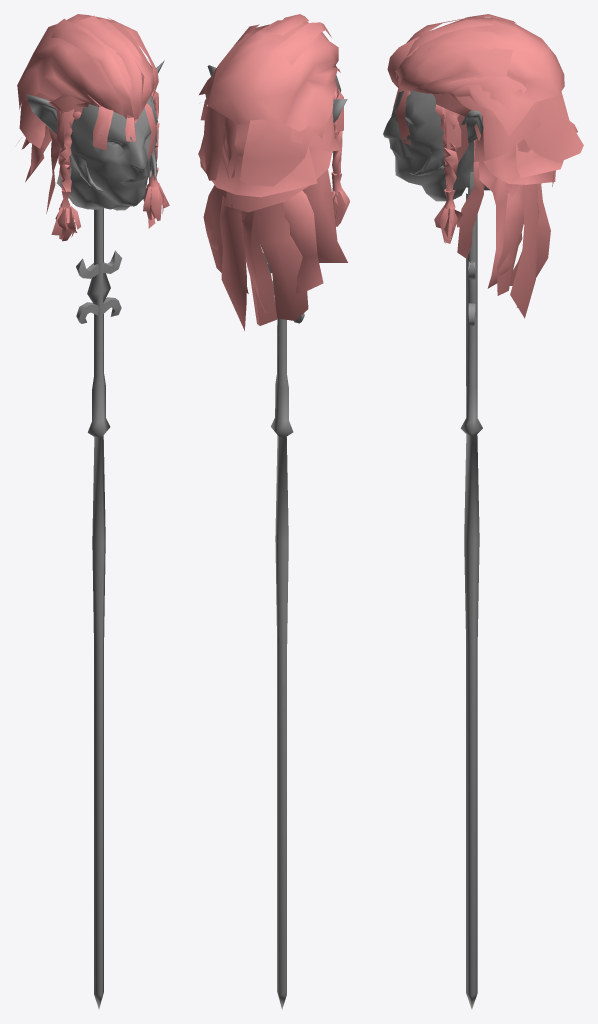
File: DLV_Shakara_Object_ScuSpear01_SM_YHY.gltf
3 renders of one model, left to right at view 1: azimuth 30°, elevation 25°; view 2: azimuth 150°, elevation 25°; view 3: azimuth 270°, elevation 25°, orthographic.
Visible parts, largest first — view 1: DLV_Shakara_Object_ScuSpear01_SM_YHY; view 2: DLV_Shakara_Object_ScuSpear01_SM_YHY; view 3: DLV_Shakara_Object_ScuSpear01_SM_YHY.
Boxes of the visible parts, x1,y1,x2,y2 form: DLV_Shakara_Object_ScuSpear01_SM_YHY: (17, 14, 169, 1009); DLV_Shakara_Object_ScuSpear01_SM_YHY: (198, 14, 349, 1009); DLV_Shakara_Object_ScuSpear01_SM_YHY: (383, 14, 583, 1009).
Size of the model in its own units: 0.0726 by 0.476 by 0.0877.
